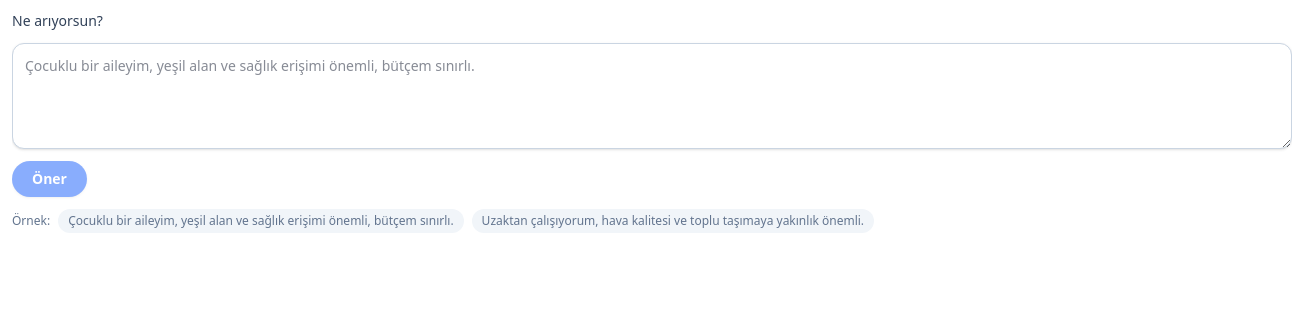
Test case: AssistantClient › shows this app's own translated status message, not the backend's raw `message` field, when no usable recommendation comes back
The width and height of the screenshot is (1304, 318).
Replace the text in the text box labelled "Ne arıyorsun?" with "çok tuhaf bir istek" at (652, 96), box [12,43,1292,149]
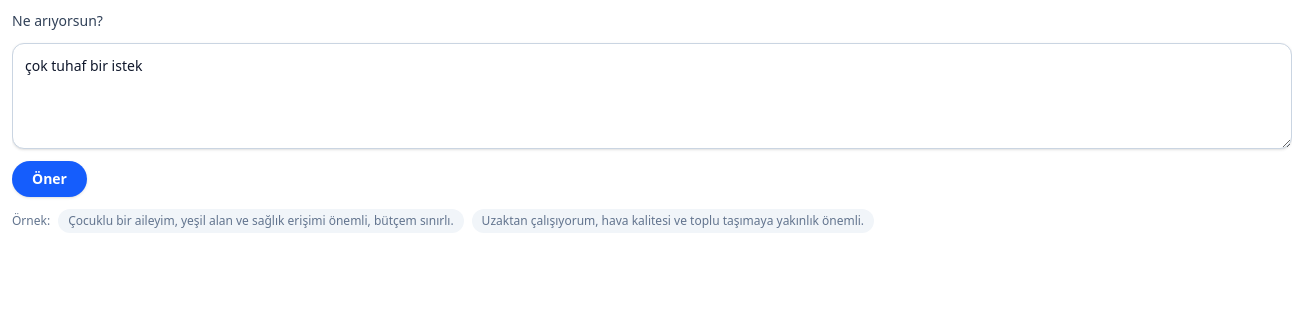
Click the button "Öner" at (50, 179), box [12,161,87,197]
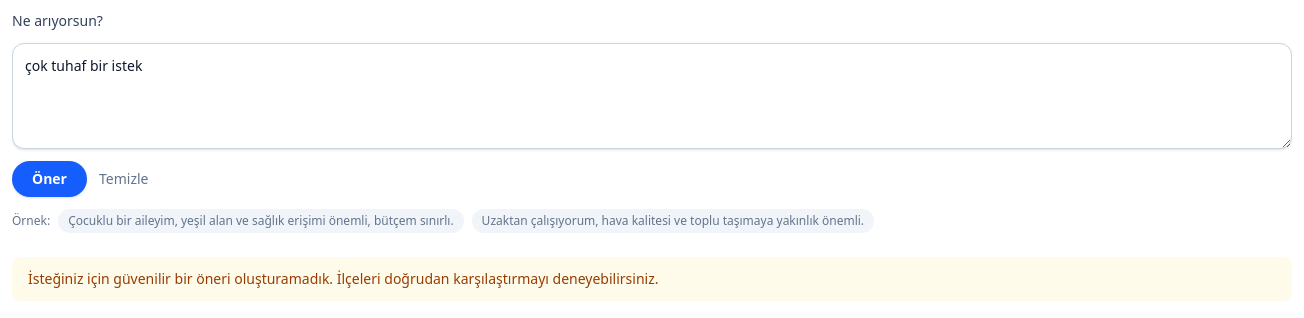
Now the text "İsteğiniz için güvenilir bir öneri oluşturamadık. İlçeleri doğrudan karşılaştırmayı deneyebilirsiniz." is shown, box [28,269,658,288]
